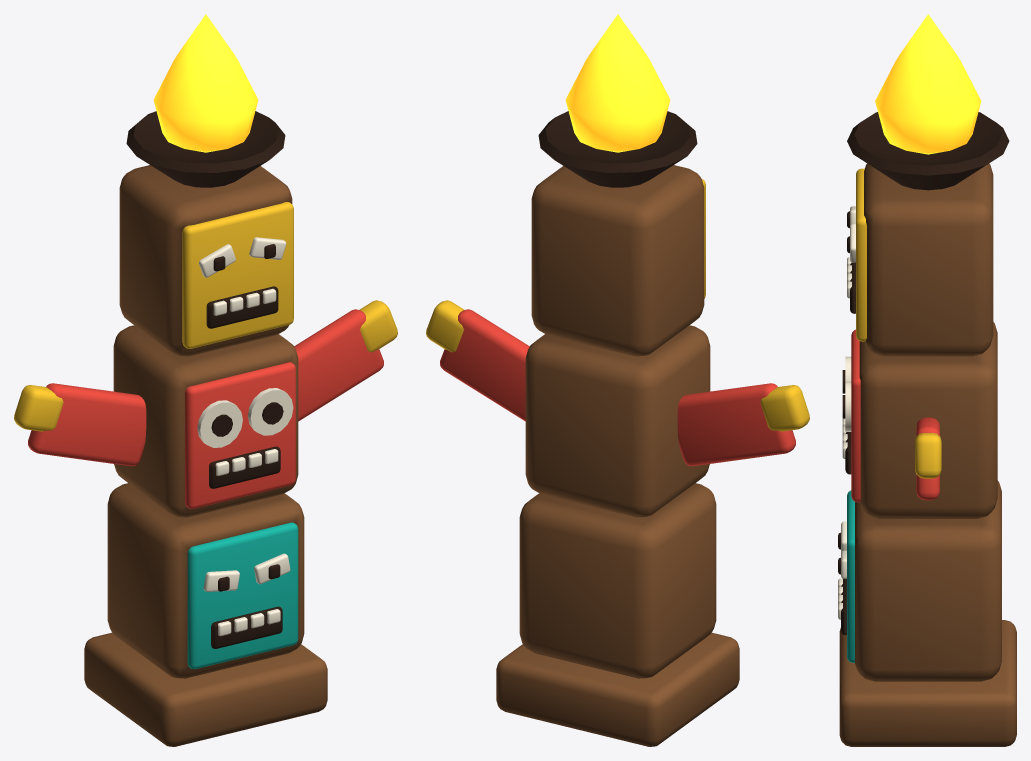
Rendered from totem.glb.
3 renders of one model, left to right at view 1: azimuth 30°, elevation 25°; view 2: azimuth 150°, elevation 25°; view 3: azimuth 270°, elevation 25°, orthographic.
Visible parts, largest first — view 1: Totem; view 2: Totem; view 3: Totem.
Boxes of the visible parts, box(x1,y1,x2,y2) form: Totem: box(14, 14, 397, 746); Totem: box(426, 14, 809, 746); Totem: box(838, 14, 1016, 746).
Size of the model in its own units: 2.99 by 5.2 by 1.21.
